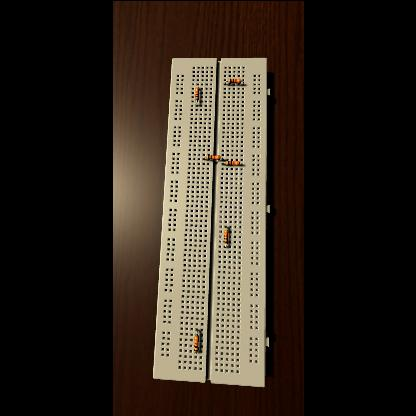breadboard: (152, 58, 270, 386)
resistor: (194, 334, 198, 352), (223, 229, 228, 243), (195, 86, 199, 100), (228, 78, 242, 82), (206, 155, 219, 159), (226, 160, 238, 164)
wire: (224, 80, 228, 84), (196, 328, 198, 334), (204, 156, 206, 160), (220, 156, 222, 160), (222, 162, 226, 164), (241, 80, 243, 84), (224, 244, 226, 247), (224, 225, 226, 228), (240, 162, 242, 164), (196, 99, 196, 105)
